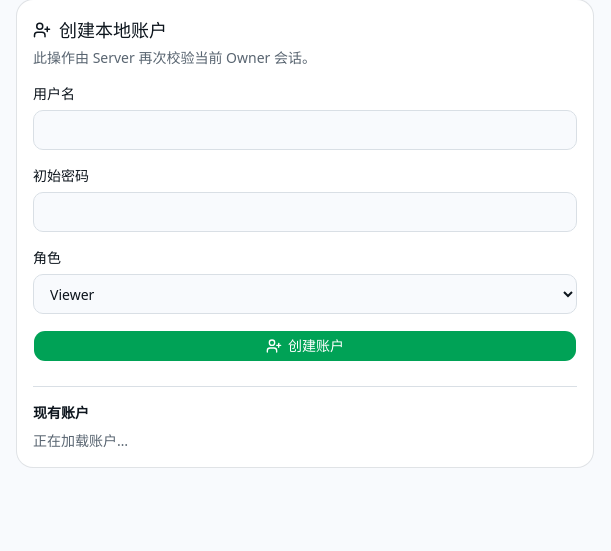
Scenario: OwnerUserManagement › creates a Viewer account and clears the initial password
In the field labelled "用户名": point(305, 130) [33,110,577,150], type "viewer-a"
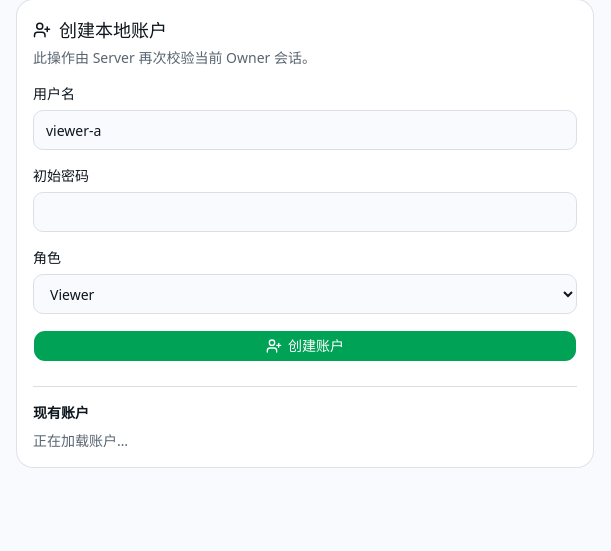
In the password field labelled "初始密码": point(305, 212) [33,192,577,232], type "initial-secret"
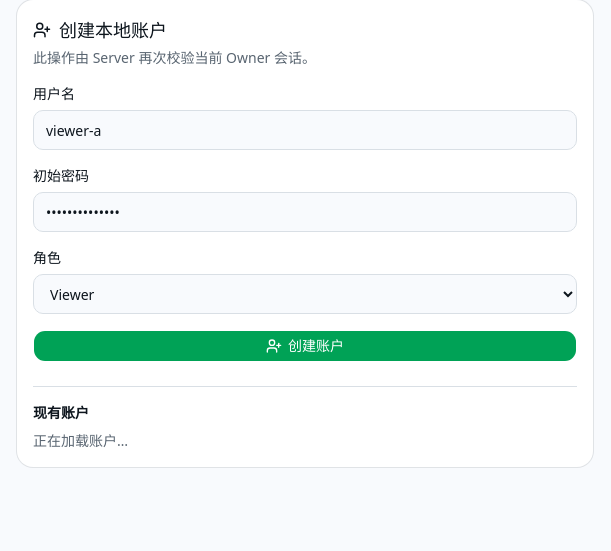
Click the button "创建账户": point(305, 346) [33,330,577,362]
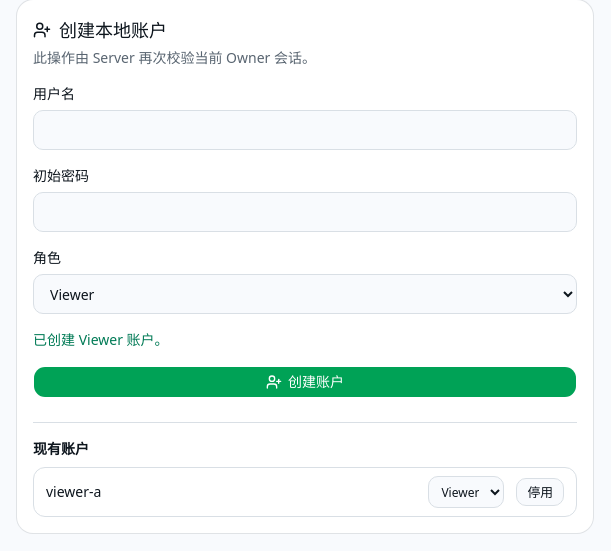
Result: the text "已创建 Viewer 账户。" is shown at [33,330,169,349]
Result: the text "viewer-a" is shown at [46,482,101,501]
Result: the password field labelled "初始密码" is empty at [33,192,577,232]
Select "Owner" in the dropdown named "角色-viewer-a": point(466, 492) [428,476,504,508]
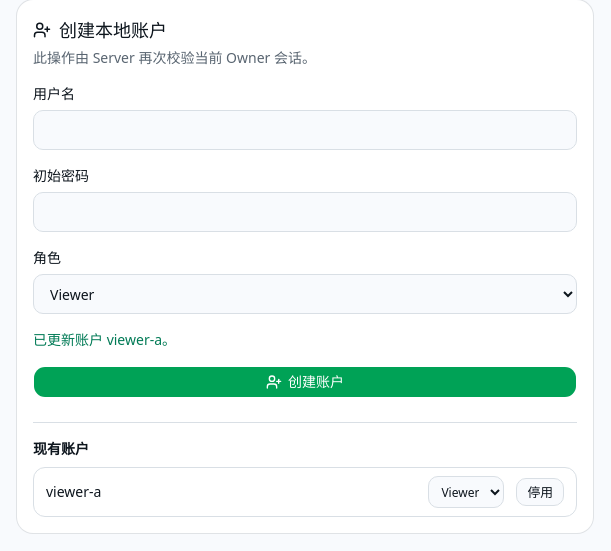
Result: the text "已更新账户 viewer-a。" is shown at [33,330,176,349]
